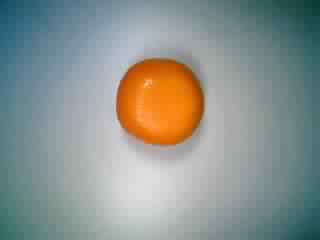orange: (111, 50, 206, 152)
